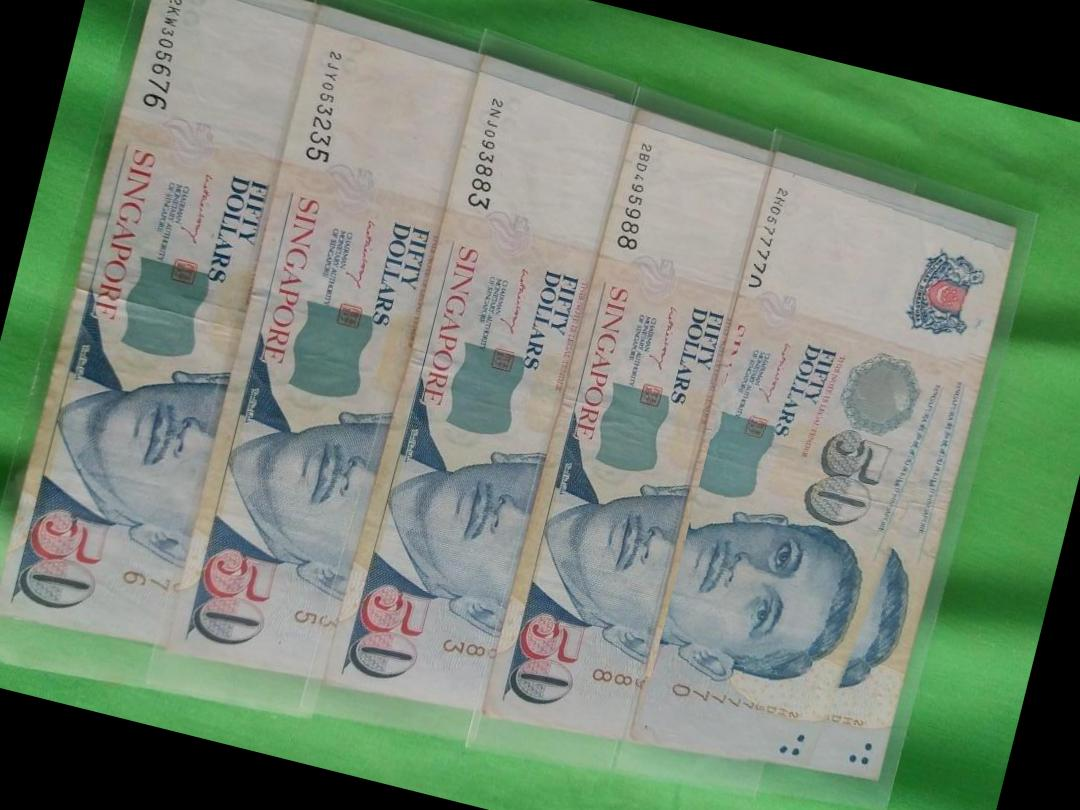50SingaporeDollar: (639, 170, 1015, 782)
